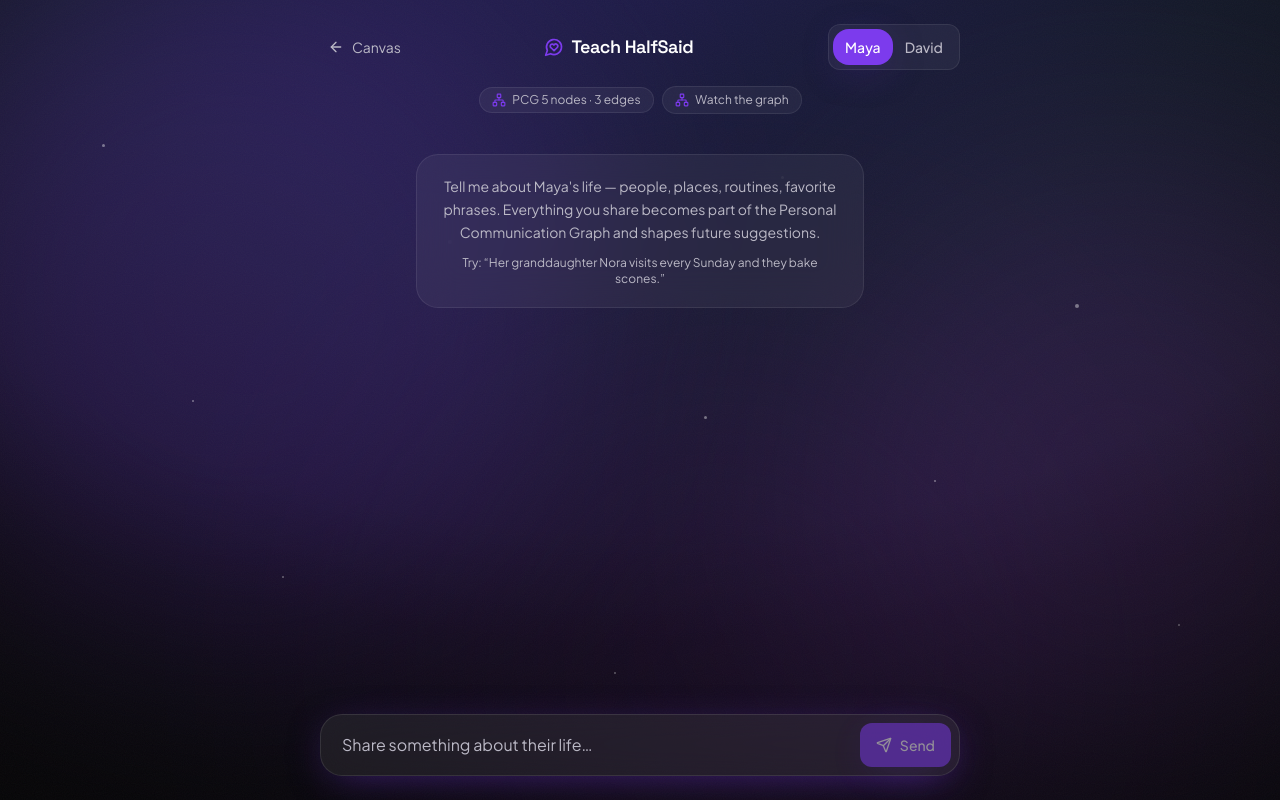
it: IngestChat › has no axe violations (empty state and after a reply)
In the field named "tell halfsaid something": (590, 745) [329,723,852,767], type "hello there"
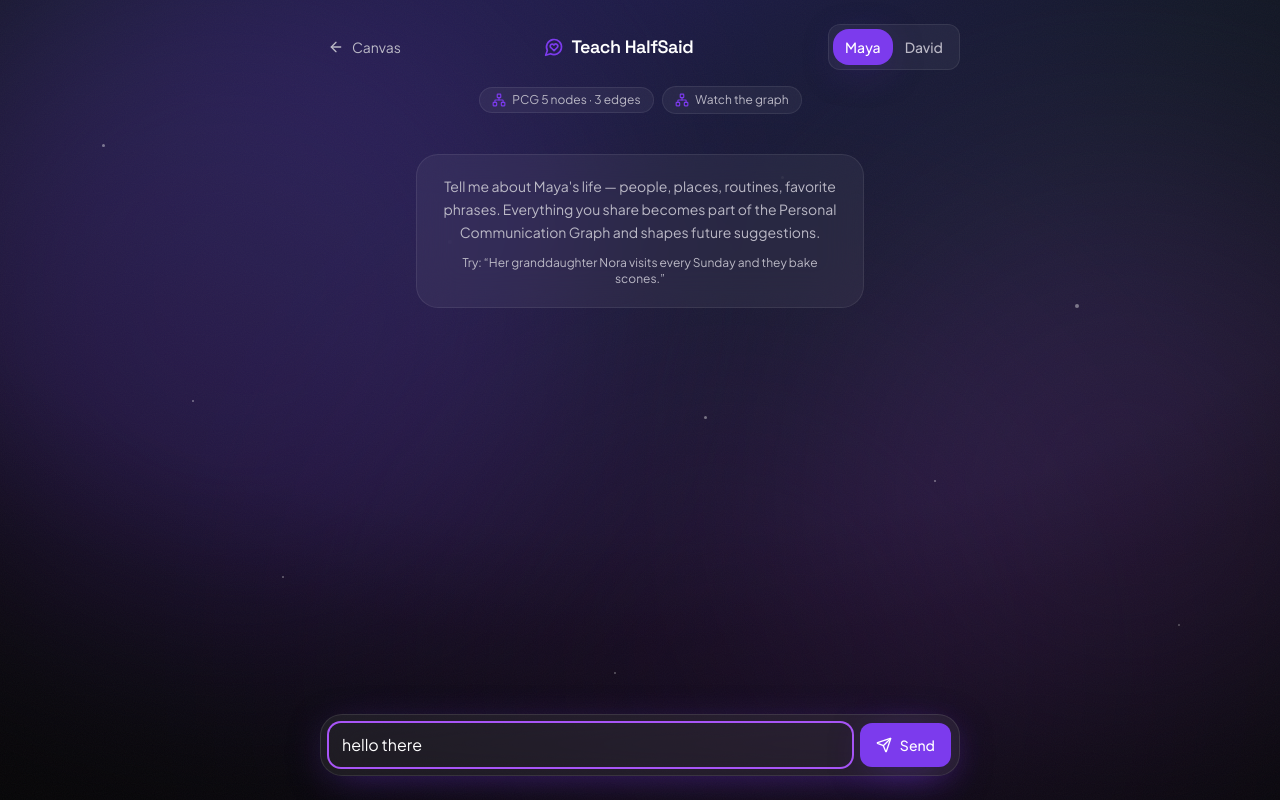
Click the button "Send": (905, 745) [860,723,951,767]
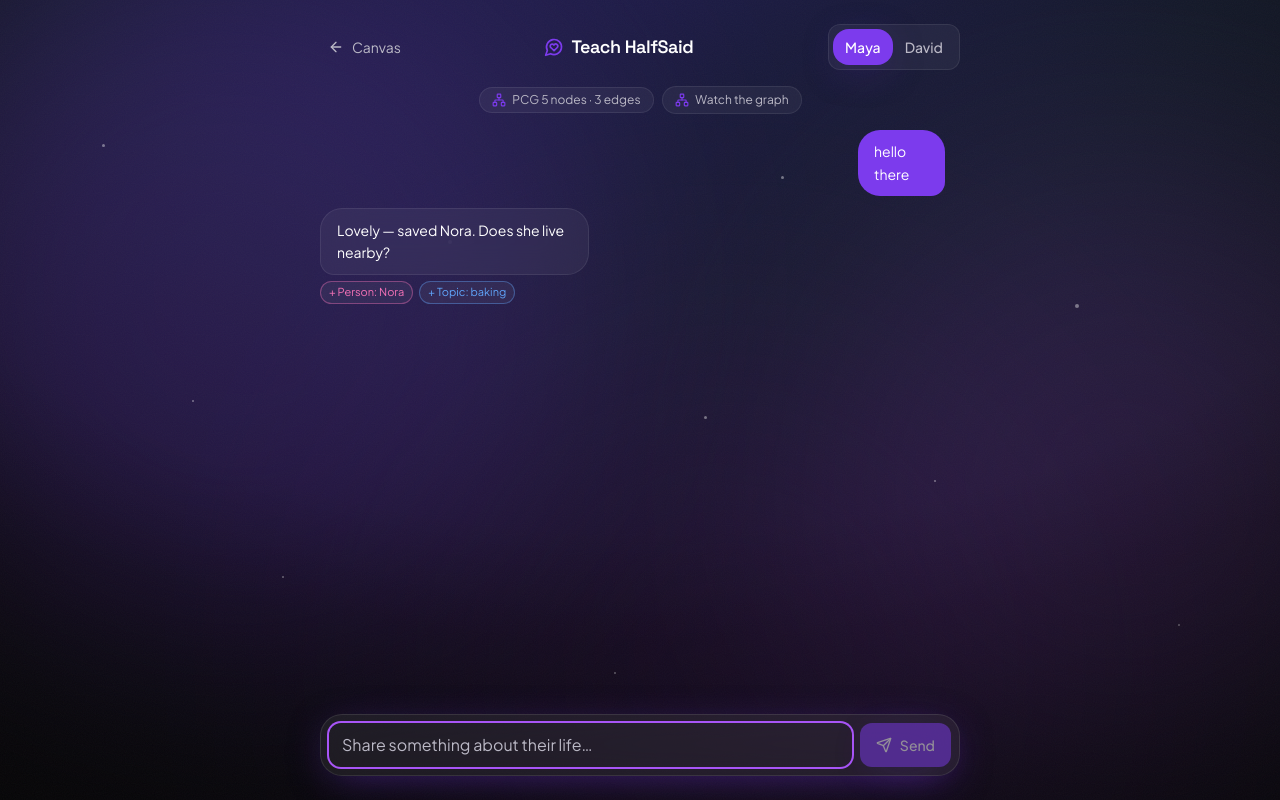
Result: the text "Lovely — saved Nora. Does she live nearby?" is shown at [337,218,572,264]
